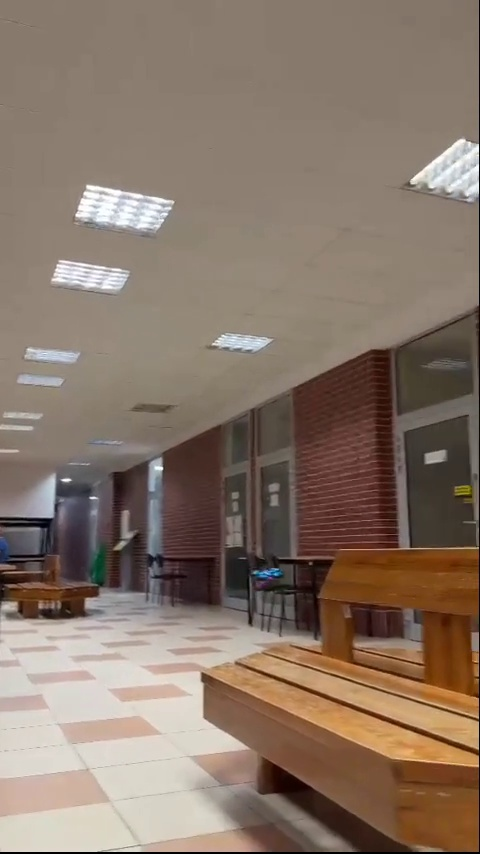drone: (251, 566, 285, 585)
